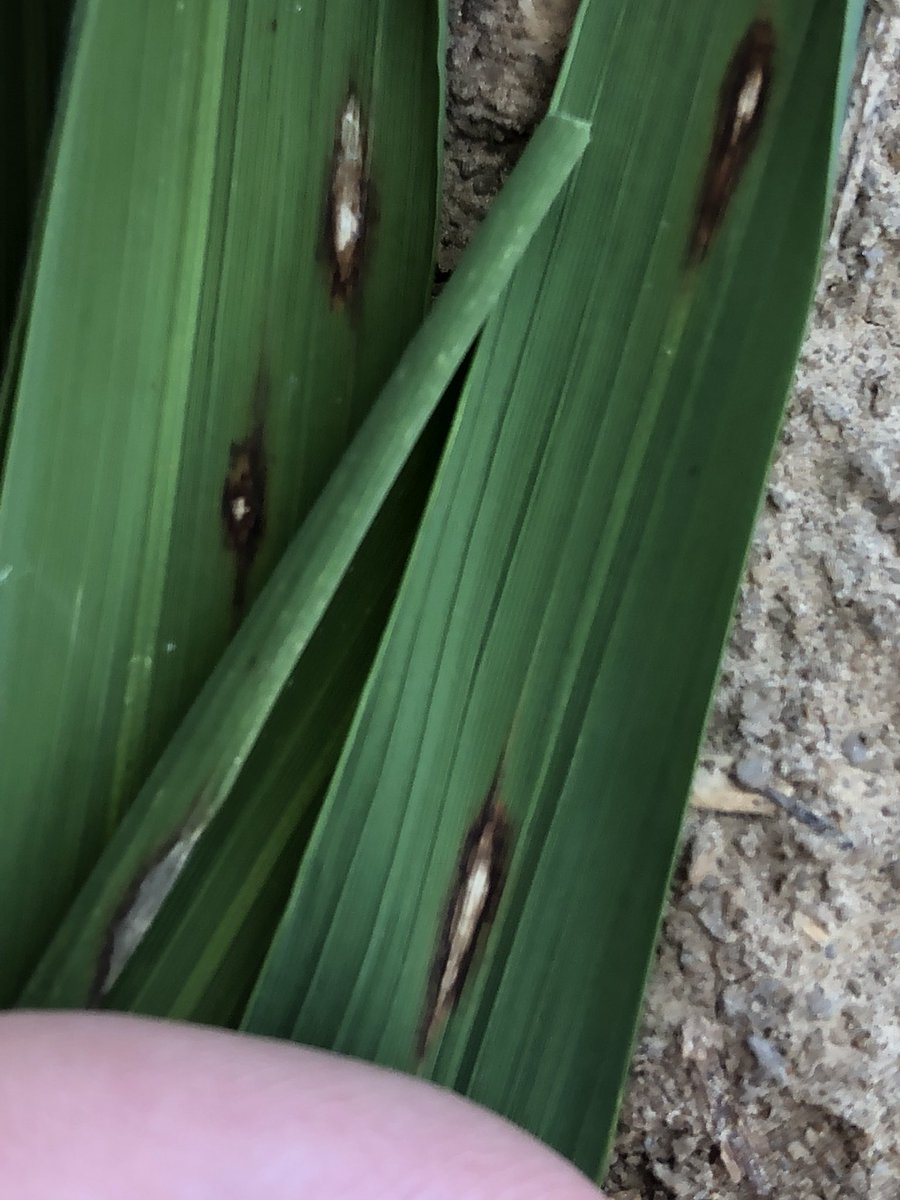Busuk Leher: (411, 787, 518, 1031), (113, 791, 215, 1016), (196, 371, 284, 609), (704, 18, 787, 263), (315, 62, 395, 313)
